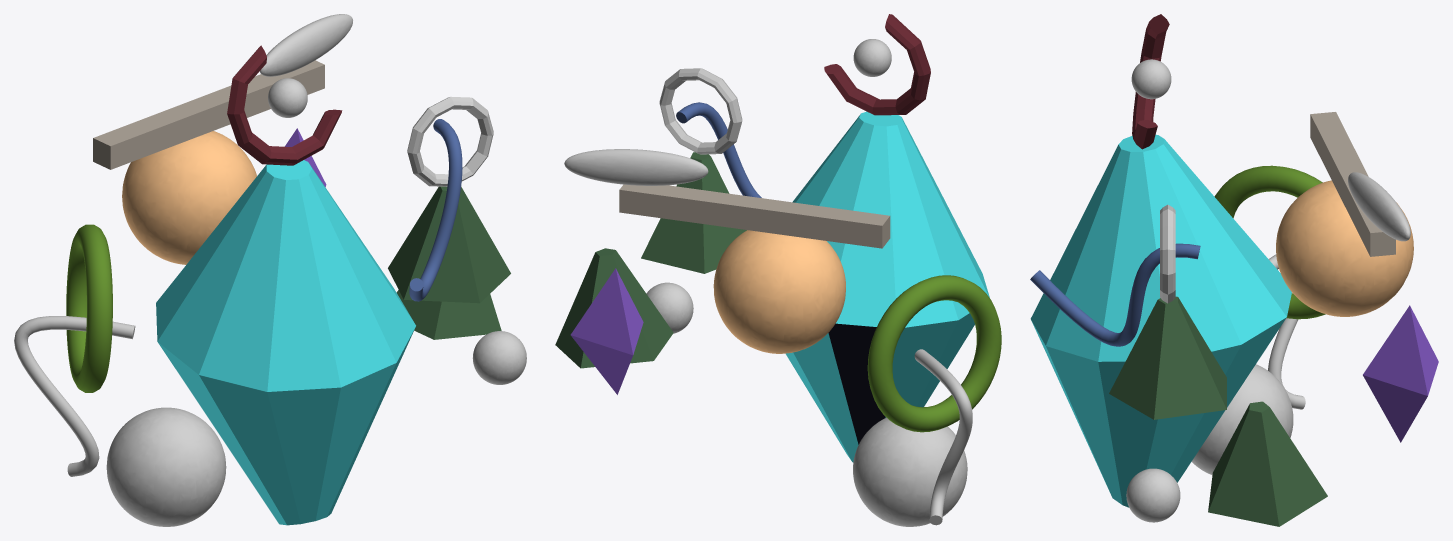
The model's file is library.gltf.
The picture shows the model from 3 angles, left to right: view 1: azimuth 30°, elevation 25°; view 2: azimuth 150°, elevation 25°; view 3: azimuth 270°, elevation 25°; orthographic projection. The views are drawn at different scales.
Parts seen in each view (by area): view 1: Cylinder_blue, Sphere_pink, Sphere_pink_lil.001, Cylinder, Cube, Circle, BezierCurve.001, Torus_half, Cylinder.001, Sphere_yellow, Torus, BezierCurve (+2 smaller); view 2: Cylinder_blue, Sphere_pink, Circle, Cube, Sphere_pink_lil.001, Cone, Cylinder.001, Cylinder, Sphere_yellow, Torus_half, Torus, BezierCurve.001 (+3 smaller); view 3: Cylinder_blue, Sphere_pink, Cylinder, Cylinder.001, Cone, Cube, Sphere_pink_lil.001, BezierCurve, Circle, Sphere_yellow.001, Sphere_yellow, Torus_half (+3 smaller).
Part boxes in pixels (<box>): Cylinder_blue: <box>156,160,415,525</box>; Sphere_pink: <box>122,131,256,264</box>; Sphere_pink_lil.001: <box>106,407,226,526</box>; Cylinder: <box>388,186,510,303</box>; Cube: <box>93,60,324,169</box>; Circle: <box>66,224,112,392</box>; BezierCurve.001: <box>14,316,135,476</box>; Torus_half: <box>227,45,342,165</box>; Cylinder.001: <box>396,290,501,339</box>; Sphere_yellow: <box>259,14,352,76</box>; Torus: <box>407,96,493,186</box>; BezierCurve: <box>409,119,462,301</box>; Cylinder_blue: <box>786,111,989,462</box>; Sphere_pink: <box>713,230,845,353</box>; Circle: <box>867,275,1001,432</box>; Cube: <box>619,184,890,248</box>; Sphere_pink_lil.001: <box>853,417,967,526</box>; Cone: <box>570,268,643,394</box>; Cylinder.001: <box>555,248,673,368</box>; Cylinder: <box>641,152,746,273</box>; Sphere_yellow: <box>564,149,708,185</box>; Torus_half: <box>824,14,930,115</box>; Torus: <box>659,68,742,154</box>; BezierCurve.001: <box>914,349,972,525</box>; Cylinder_blue: <box>1030,134,1291,507</box>; Sphere_pink: <box>1276,180,1413,316</box>; Cylinder: <box>1109,296,1226,419</box>; Cylinder.001: <box>1208,401,1327,526</box>; Cone: <box>1363,305,1438,442</box>; Cube: <box>1310,112,1395,256</box>; Sphere_pink_lil.001: <box>1191,364,1293,475</box>; BezierCurve: <box>1030,243,1200,346</box>; Circle: <box>1214,165,1325,319</box>; Sphere_yellow.001: <box>1126,468,1180,522</box>; Sphere_yellow: <box>1348,172,1410,241</box>; Torus_half: <box>1132,14,1169,149</box>.
Size of the model in its own units: 2.01 by 2.06 by 1.56.
